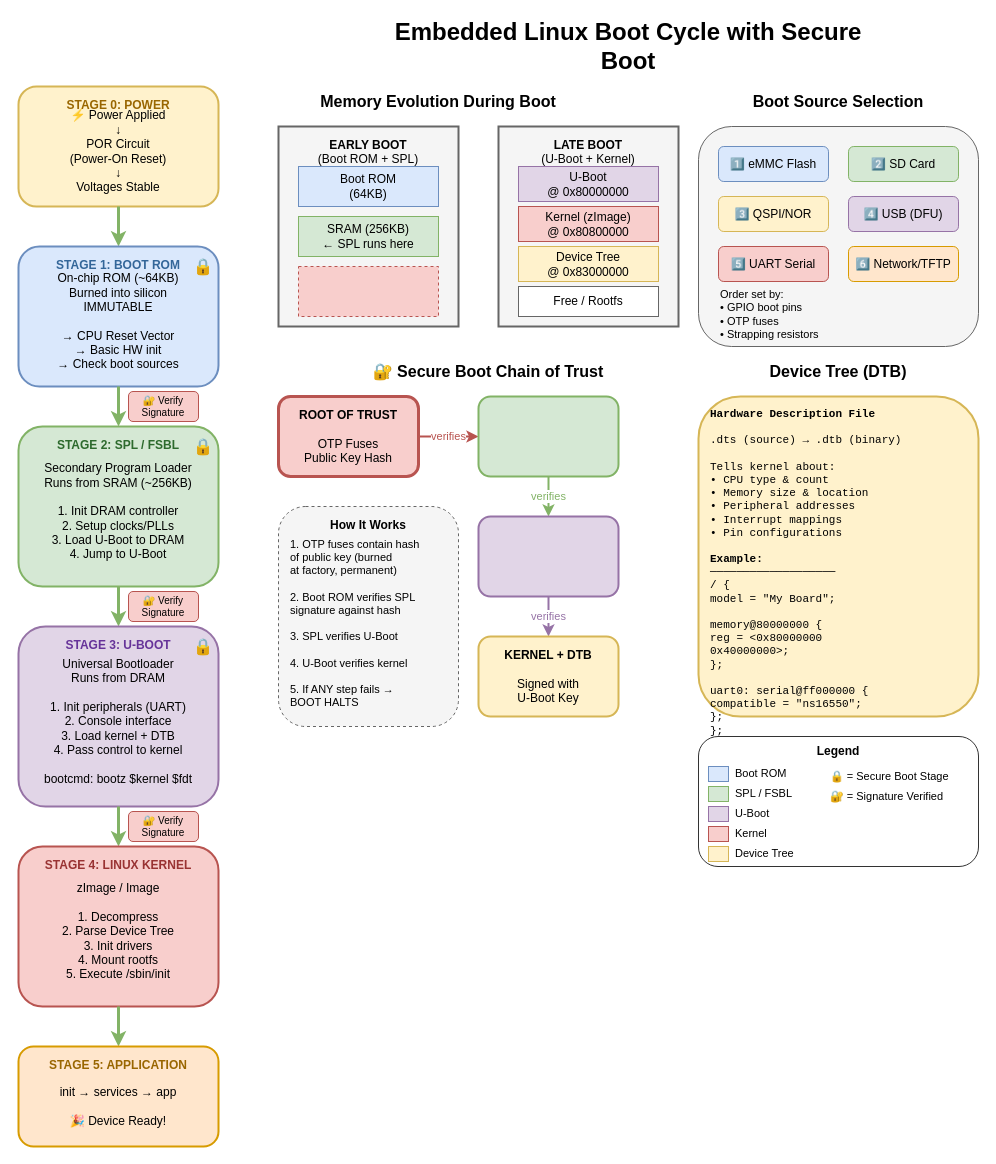
Image size: 996x1164. Some labels were removed from this diagram. The shapes that lost their labels are listed below. From the top down, each one's centre as x and y in pixels, then its label:
At [368,291]: "DRAM ✗ NOT READY".
At [548,436]: "SPL Signed with Vendor Key".
At [548,556]: "U-BOOT Signed with SPL Key".
